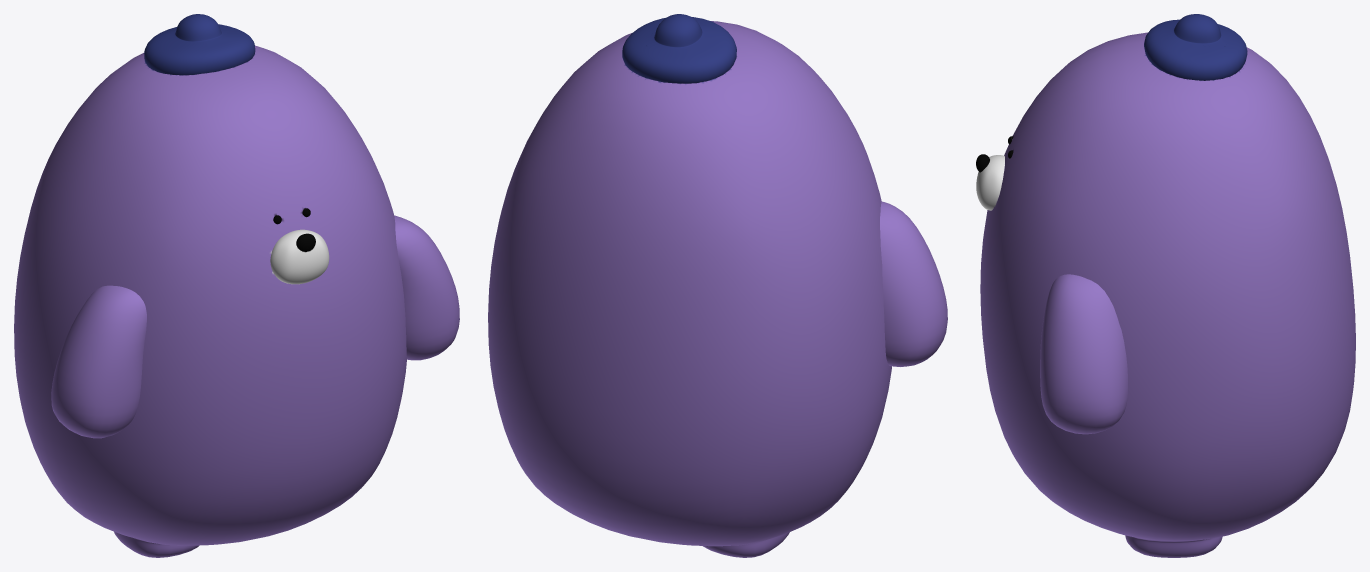
The model's file is Sol5.glb.
3 renders of one model, left to right at view 1: azimuth 30°, elevation 25°; view 2: azimuth 150°, elevation 25°; view 3: azimuth 270°, elevation 25°, orthographic. The views are drawn at different scales.
Visible parts, largest first — view 1: Body.001; view 2: Body.001; view 3: Body.001.
Boxes of the visible parts, left/top/right/bottom form: Body.001: left=14, top=14, right=459, bottom=557; Body.001: left=488, top=14, right=947, bottom=557; Body.001: left=976, top=14, right=1355, bottom=557.
Bounding box in the file's own units: 1.95 × 2.39 × 1.63.
Materials: 1 (1 with a texture image).
